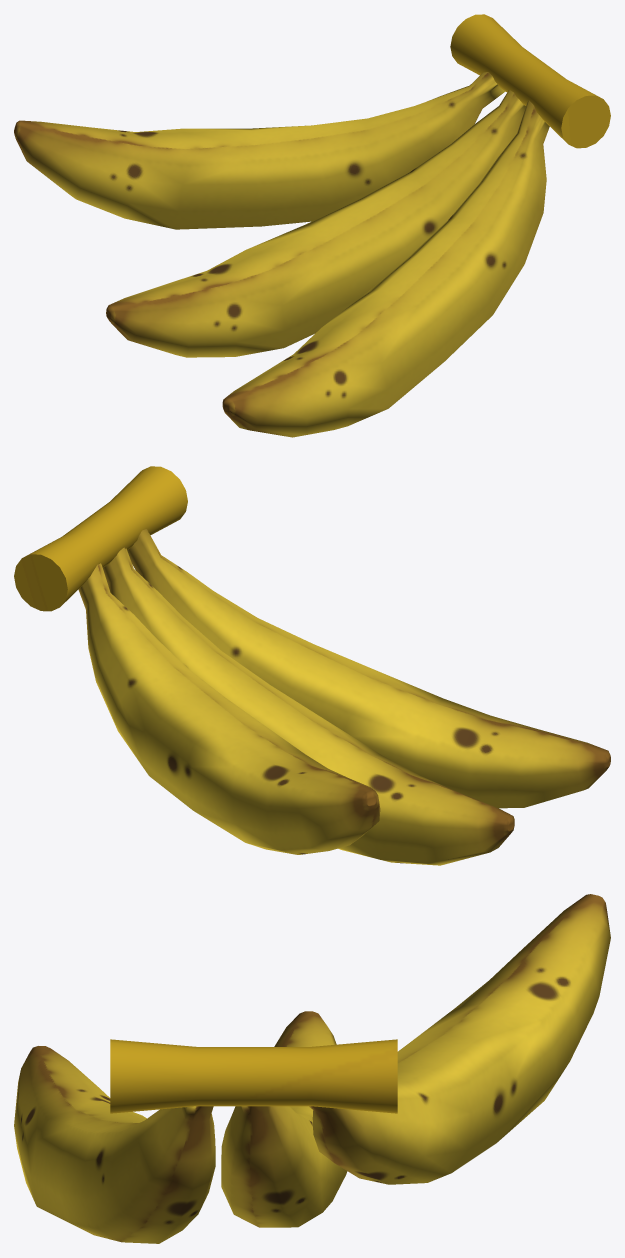
File: Parent_Run_Banana.fbx
The picture shows the model from 3 angles, top to bottom: view 1: azimuth 30°, elevation 25°; view 2: azimuth 150°, elevation 25°; view 3: azimuth 270°, elevation 25°; orthographic projection. The views are drawn at different scales.
Parts seen in each view (by area): view 1: Banana; view 2: Banana; view 3: Banana.
Boxes of the visible parts, x1,y1,x2,y2 form: Banana: (14, 14, 610, 437); Banana: (14, 466, 610, 865); Banana: (14, 894, 610, 1243).
Bounding box in the file's own units: 590 × 335 × 554.
1 material, 1 textured.
